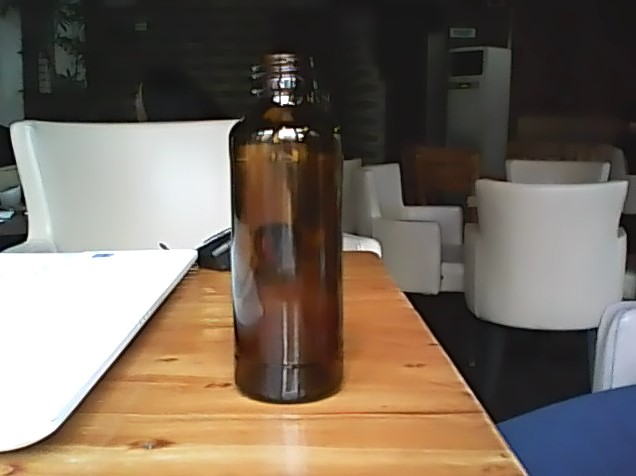Glass: (226, 51, 349, 405)
